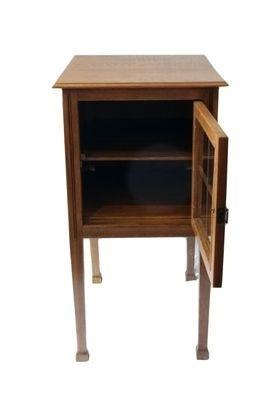cabinet_door: (191, 106, 224, 277)
